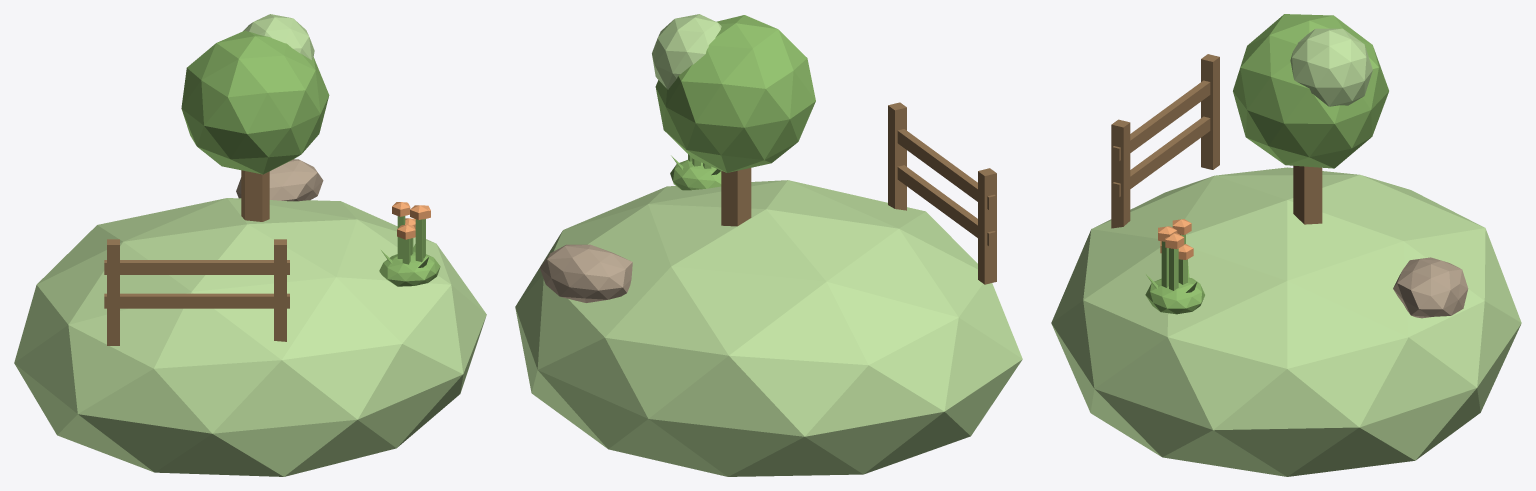
The model's file is grassy-knoll.glb.
3 views of the same model, side by side, from view 1: azimuth 30°, elevation 25°; view 2: azimuth 150°, elevation 25°; view 3: azimuth 270°, elevation 25° (orthographic). The views are drawn at different scales.
Visible parts, largest first — view 1: meadow-grassy-knoll; view 2: meadow-grassy-knoll; view 3: meadow-grassy-knoll.
Boxes of the visible parts, x1,y1,x2,y2 form: meadow-grassy-knoll: (14, 14, 486, 476); meadow-grassy-knoll: (515, 14, 1022, 476); meadow-grassy-knoll: (1051, 14, 1521, 476).
Size of the model in its own units: 2.29 by 1.88 by 2.13.
